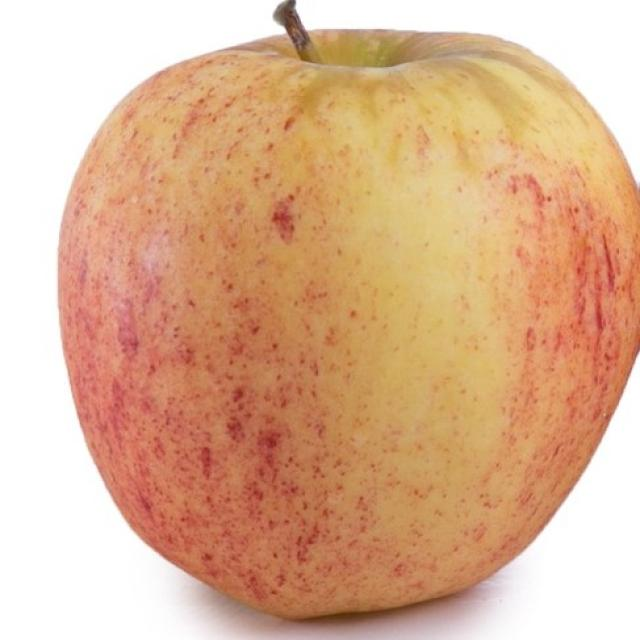75-_ripeness: (51, 25, 640, 620)
